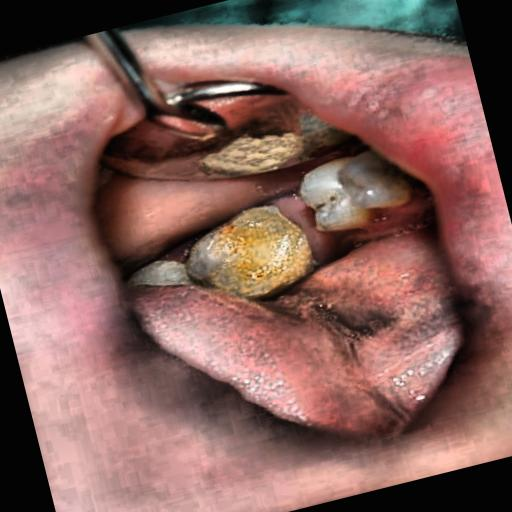Caries: (179, 174, 322, 308)
